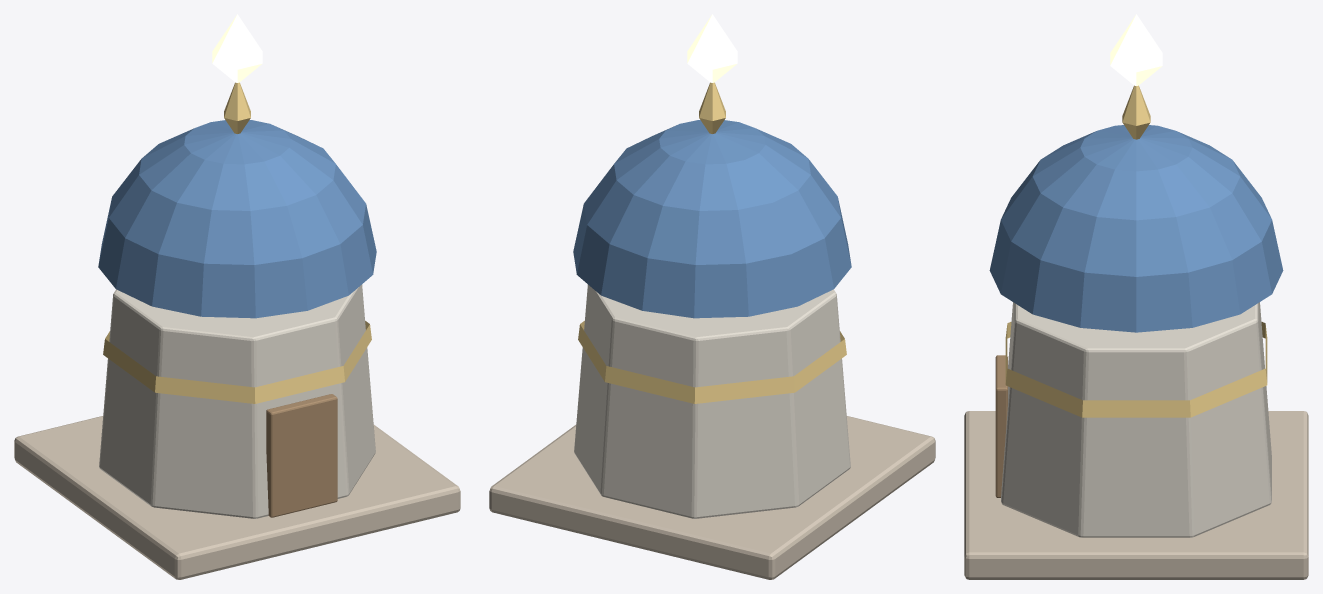
File: rax_ranged_dawn.glb
The picture shows the model from 3 angles, left to right: view 1: azimuth 30°, elevation 25°; view 2: azimuth 150°, elevation 25°; view 3: azimuth 270°, elevation 25°; orthographic projection. The views are drawn at different scales.
Visible parts, largest first — view 1: dome, hall, found, door, band, orb, top; view 2: hall, dome, found, band, orb, top; view 3: hall, dome, found, band, orb, door, top.
Part boxes in pixels (box(x1,y1,x2,y2)): dome: box(98, 120, 376, 318); hall: box(99, 284, 375, 518); found: box(14, 416, 460, 579); door: box(266, 394, 337, 517); band: box(103, 320, 371, 403); orb: box(212, 14, 262, 82); top: box(224, 82, 250, 133); hall: box(574, 284, 850, 518); dome: box(573, 120, 851, 318); found: box(489, 416, 935, 579); band: box(578, 320, 846, 403); orb: box(687, 14, 737, 82); top: box(699, 82, 725, 133); hall: box(1001, 302, 1271, 537); dome: box(989, 125, 1283, 332); found: box(964, 411, 1308, 579); band: box(1005, 322, 1267, 417); orb: box(1110, 14, 1162, 85); door: box(995, 355, 1007, 497); top: box(1122, 85, 1150, 139).
Size of the model in its own units: 3.4 by 5.4 by 3.4.
